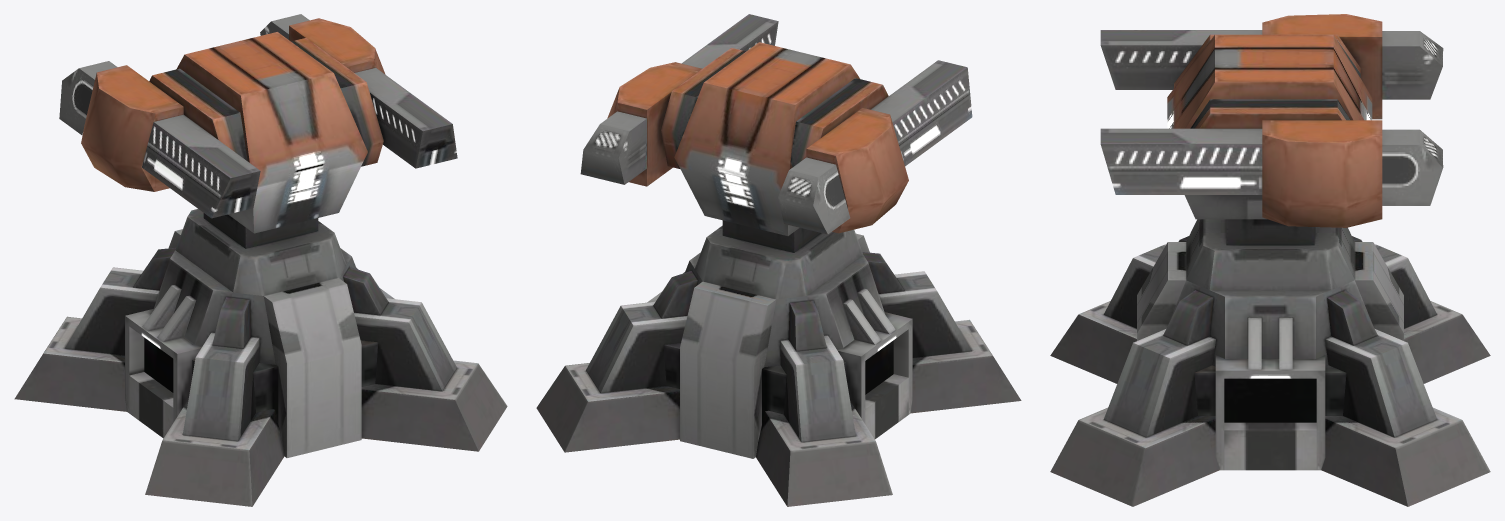
3 views of the same model, side by side, from view 1: azimuth 30°, elevation 25°; view 2: azimuth 150°, elevation 25°; view 3: azimuth 270°, elevation 25° (orthographic). The views are drawn at different scales.
Parts seen in each view (by area): view 1: turret-gauss-lod1; view 2: turret-gauss-lod1; view 3: turret-gauss-lod1.
Part boxes in pixels (x1,y1,x2,y2): turret-gauss-lod1: [14, 14, 507, 506]; turret-gauss-lod1: [536, 14, 1021, 506]; turret-gauss-lod1: [1050, 14, 1490, 506].
Bounding box in the file's own units: 5.41 × 4.82 × 5.41.
Materials: 2 (1 with a texture image).
